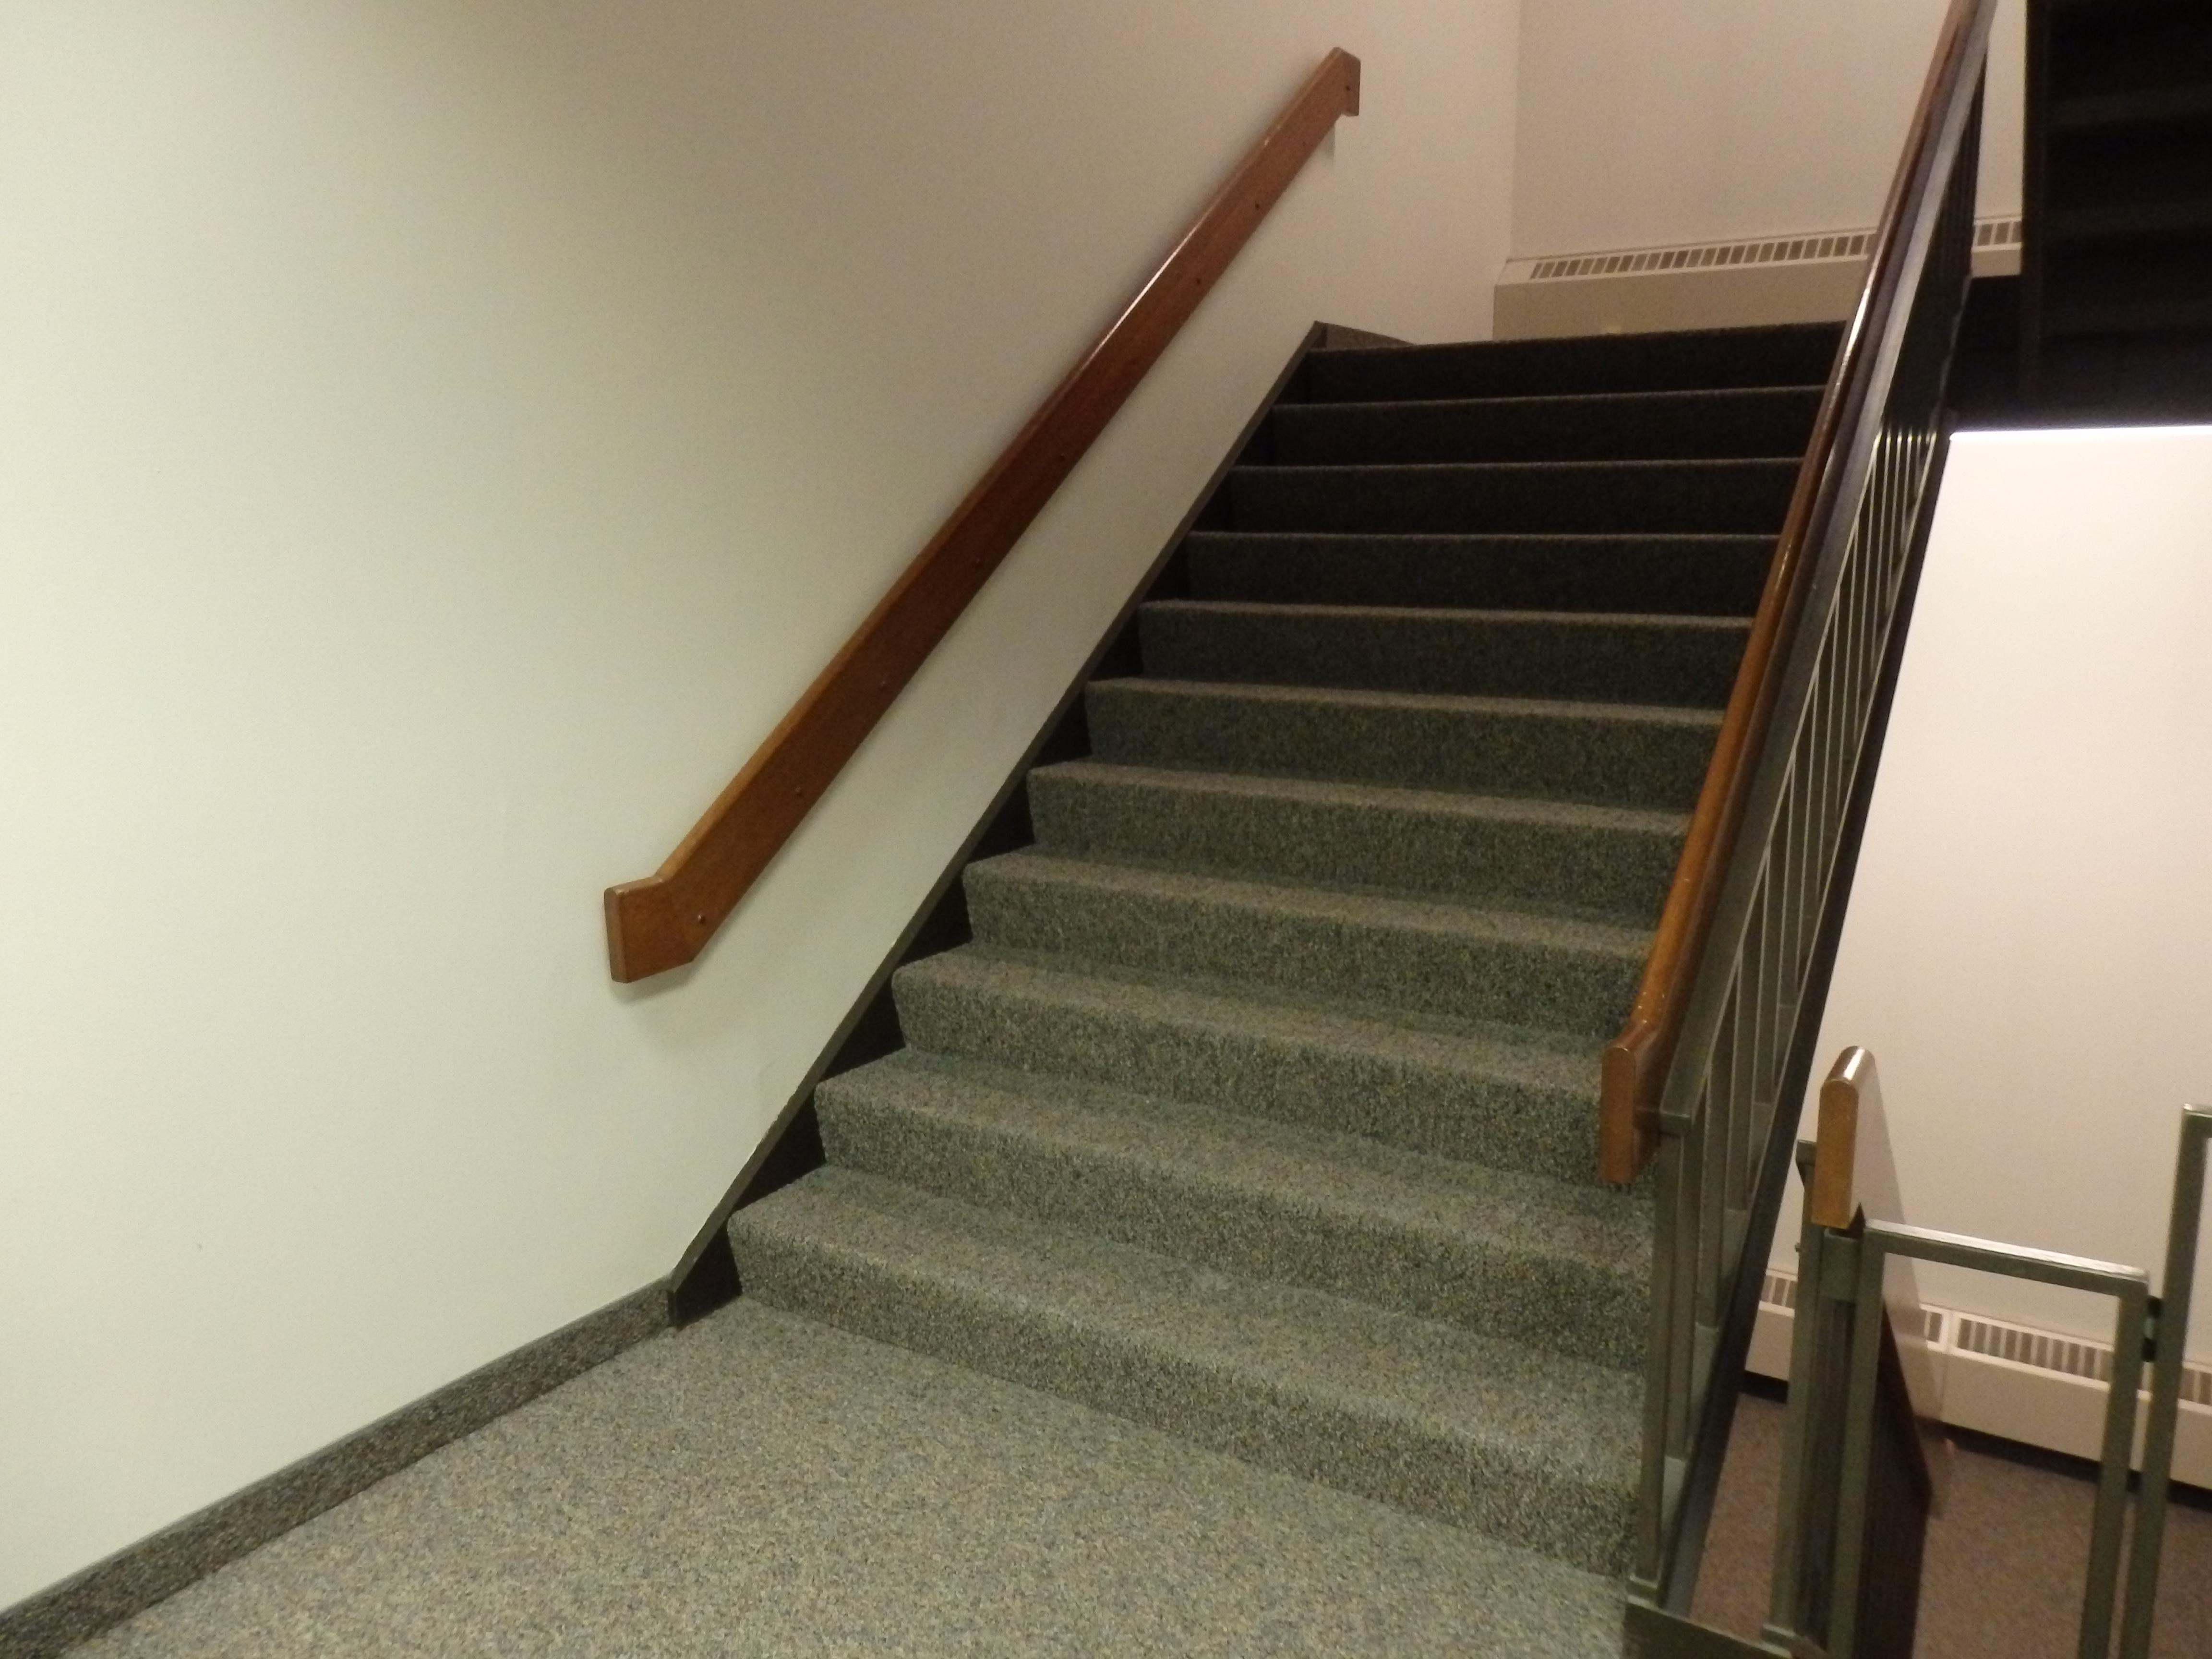stairs_up: (650, 272, 1890, 1448)
